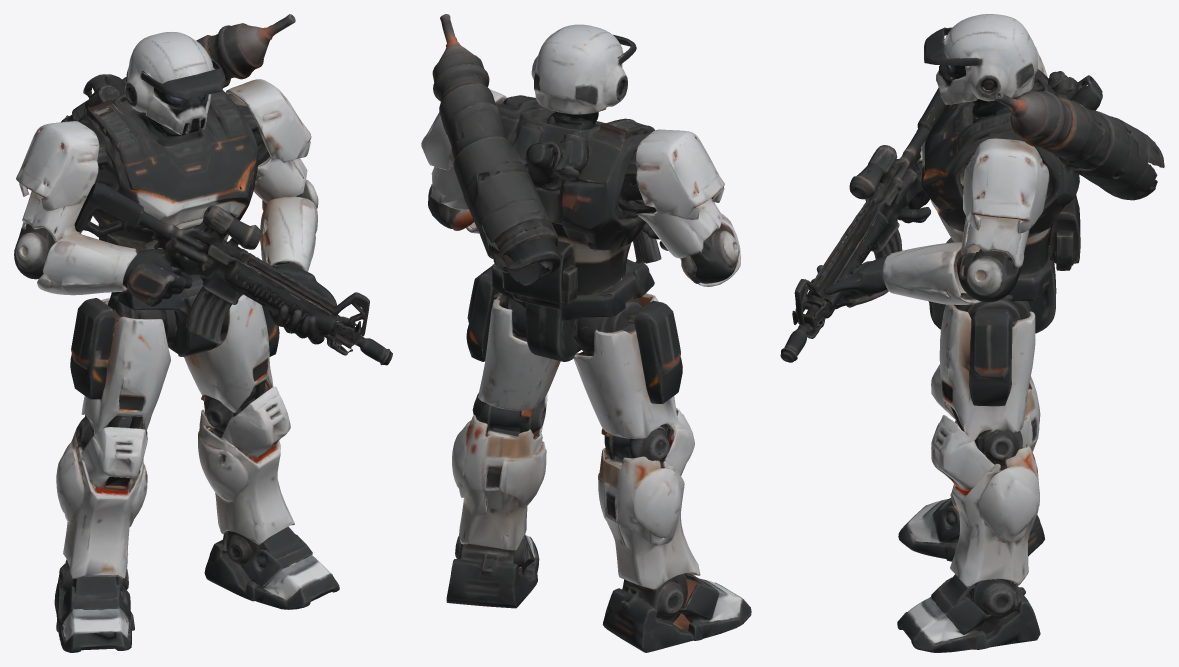
File: detail_9.glb
3 views of the same model, side by side, from view 1: azimuth 30°, elevation 25°; view 2: azimuth 150°, elevation 25°; view 3: azimuth 270°, elevation 25° (orthographic). The views are drawn at different scales.
Size of the model in its own units: 0.5491 by 0.9997 by 0.6105.
1 material, 1 textured.
